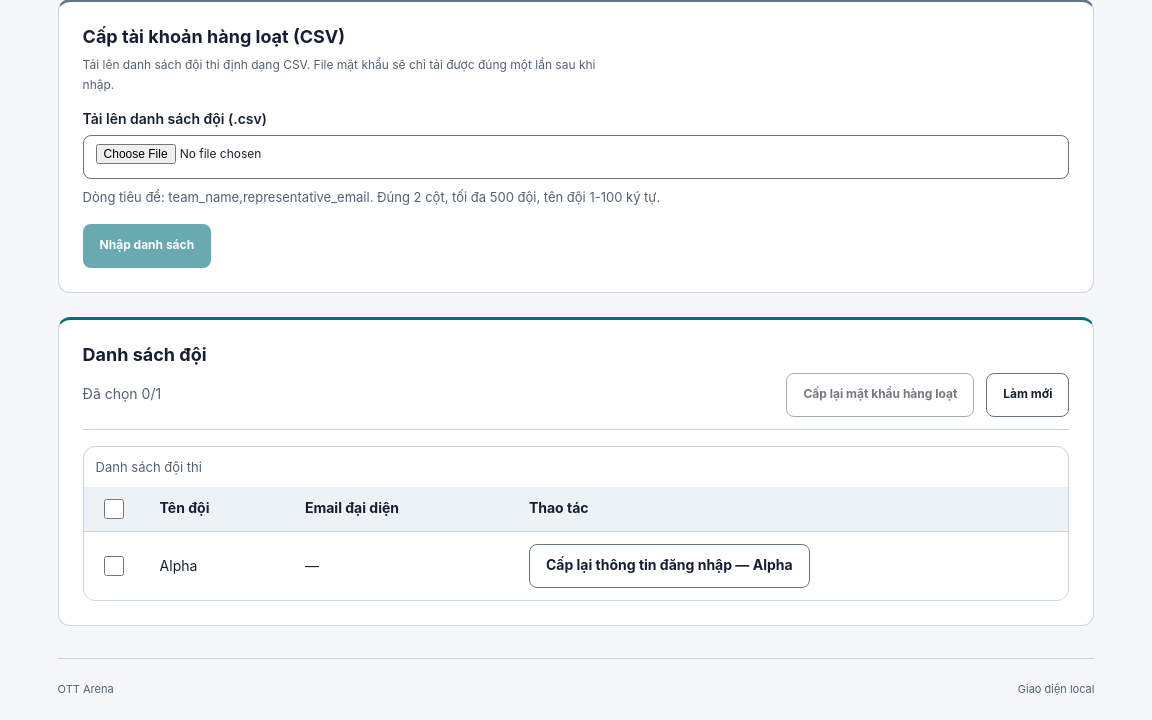
BTC team provisioning › requires confirmation before resetting and replaces the one-time view
The width and height of the screenshot is (1152, 720).
(page scrolled)
Click the button "Cấp lại thông tin đăng nhập — Alpha". click: (669, 566)
box: [529, 544, 810, 588]
(page scrolled)
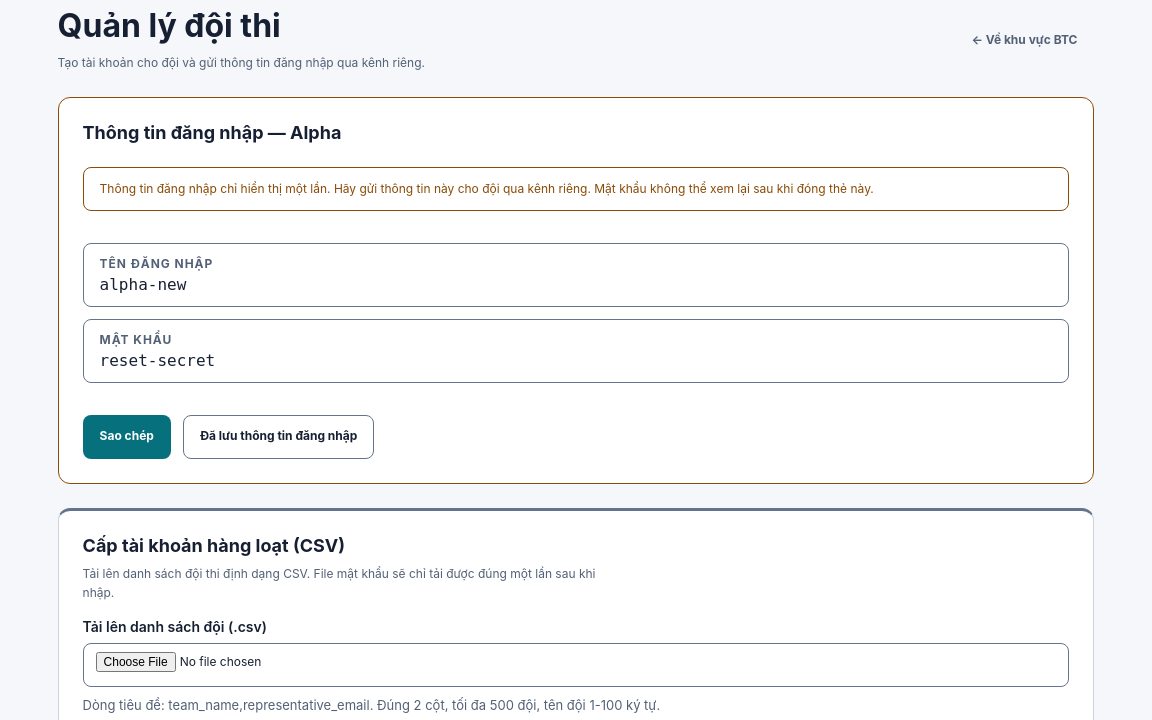
Expected: the text "reset-secret" is shown, [100, 351, 215, 370]
